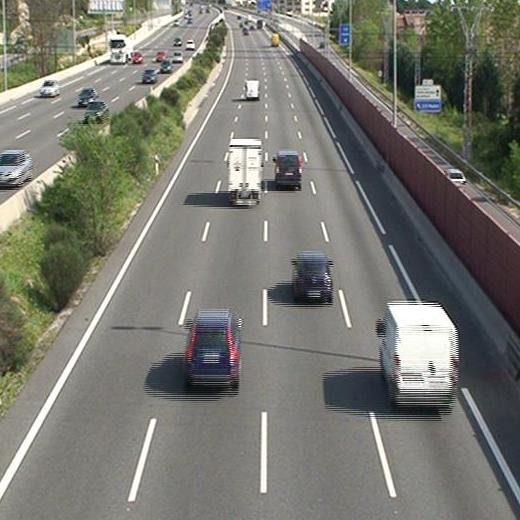car: (184, 311, 242, 385), (292, 251, 333, 302)
small-truck: (226, 137, 262, 204)
van: (377, 303, 459, 408), (272, 152, 302, 187), (244, 78, 259, 100), (271, 33, 279, 47)
